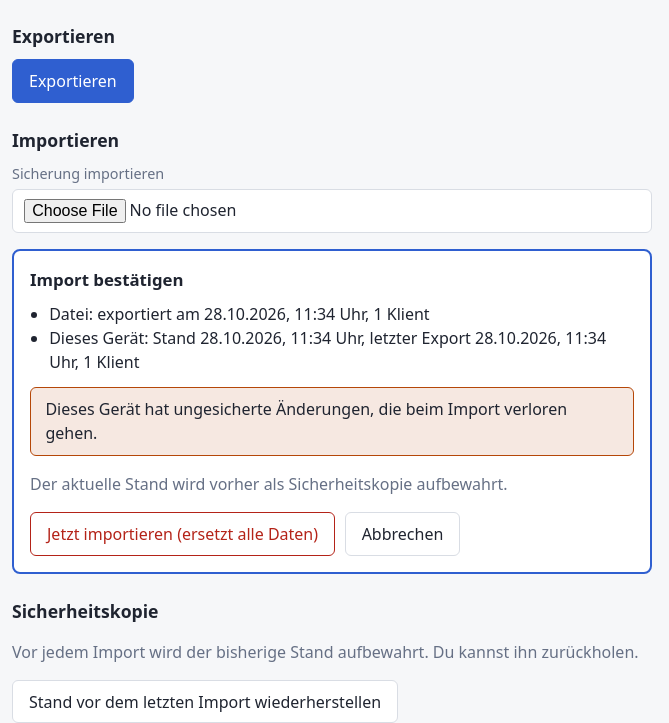
it: BackupPage › dieselbe Datei kann zweimal importiert werden
Earlier steps of the test are not shown.
Later steps or results of the test are not shown.
(page scrolled)
Click the button "Jetzt importieren (ersetzt alle Daten)".
click(182, 534)  # box [30,512,335,556]
(page scrolled)
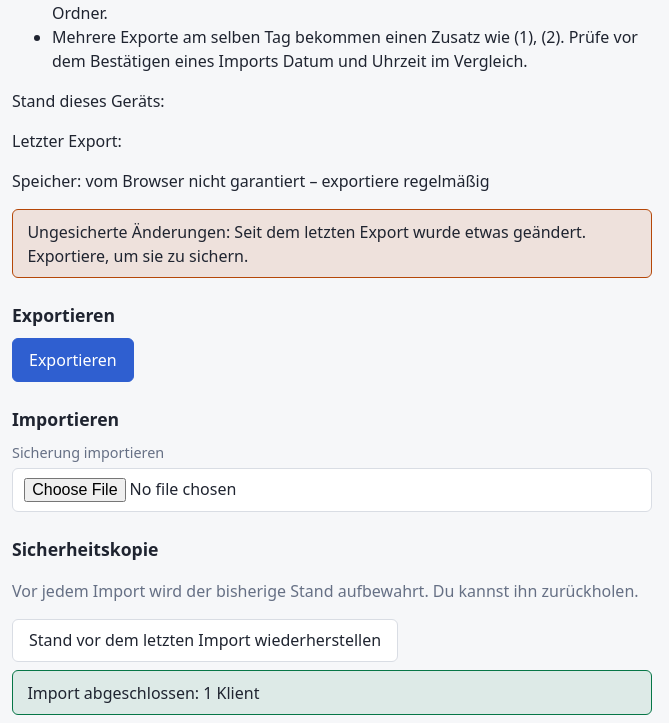
Now the text "Import abgeschlossen: 1 Klient" is shown, box [12,670,652,715]
Now the file field labelled "Sicherung importieren" is empty, box [12,468,652,512]
